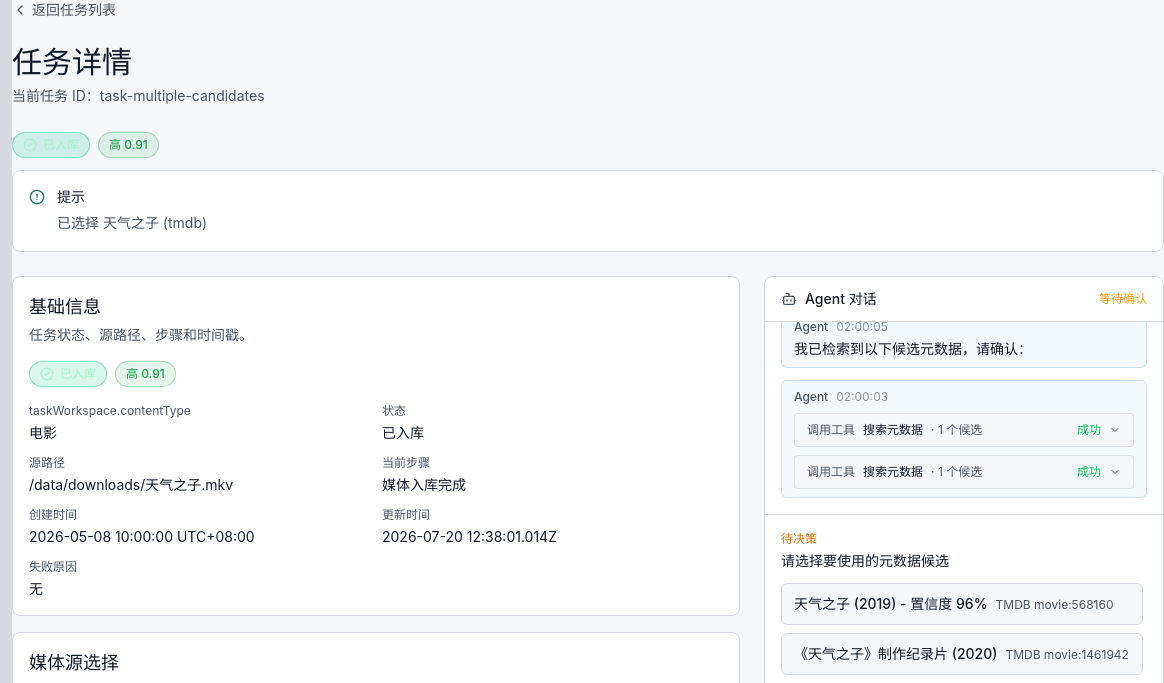
Scenario: TaskDetailPage Agent Panel › enables reply after selecting an option
This screenshot has width=1164, height=683.
(page scrolled)
Click the text "天气之子 (2019) - 置信度 96%" at (891, 604), box [794,595,988,612]
(page scrolled)
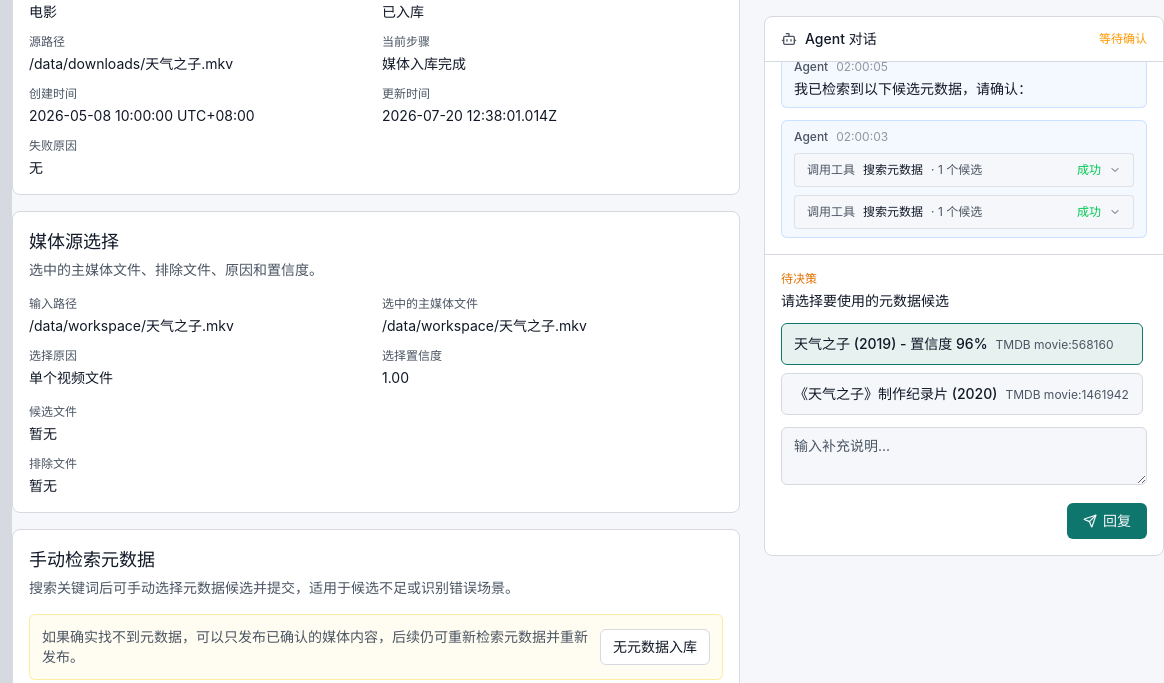
Expected: the button "回复" is enabled, [1067,503,1147,539]
